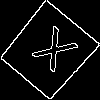X: (24, 25, 79, 82)
